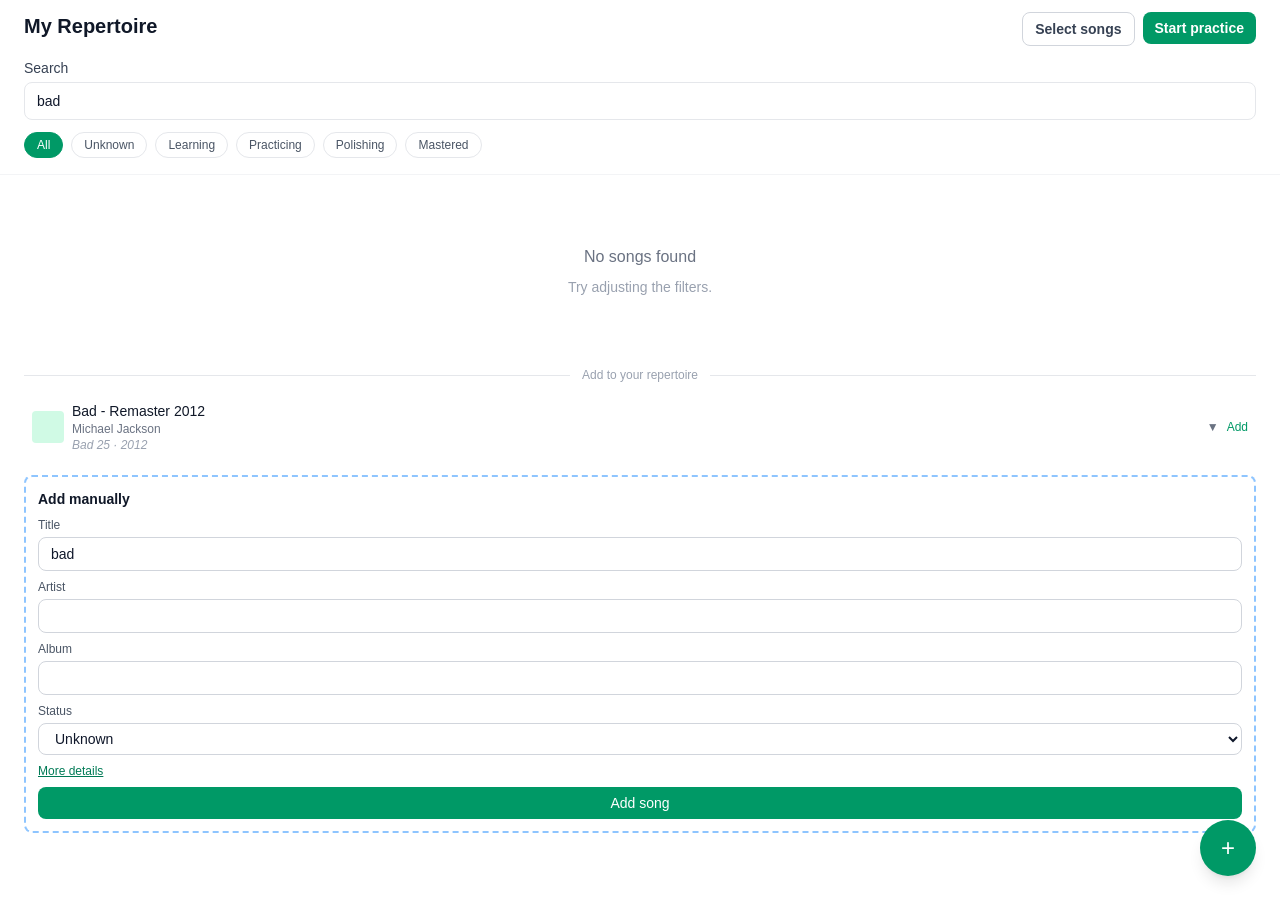
Test: RepertoireDashboard grouped search results (RH-151) › words a refused Spotify add as the old dashboard did
Click the button "Add" at (1237, 427), box [1227, 419, 1248, 435]
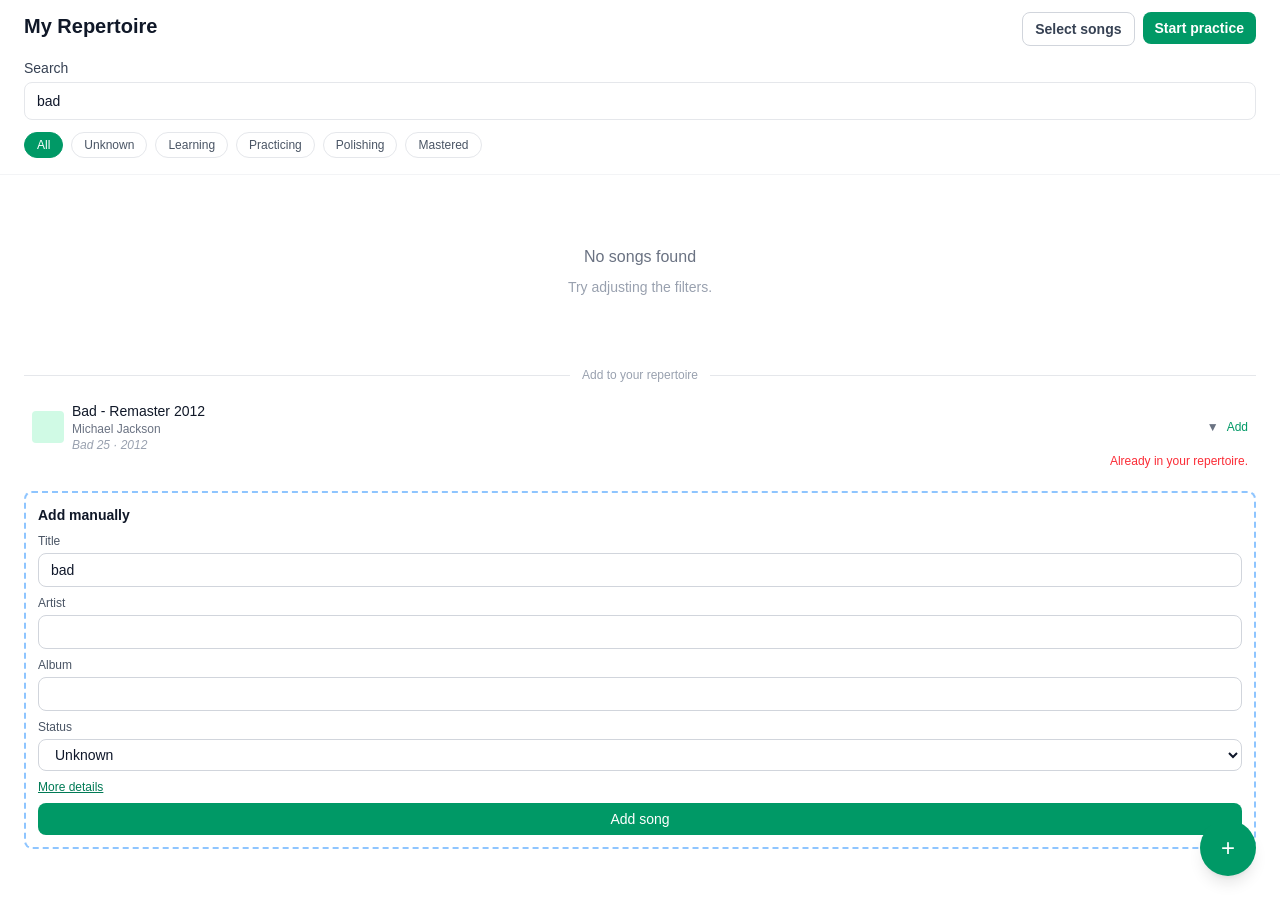
Now the text "Already in your repertoire." is shown, box [1110, 454, 1248, 468]
